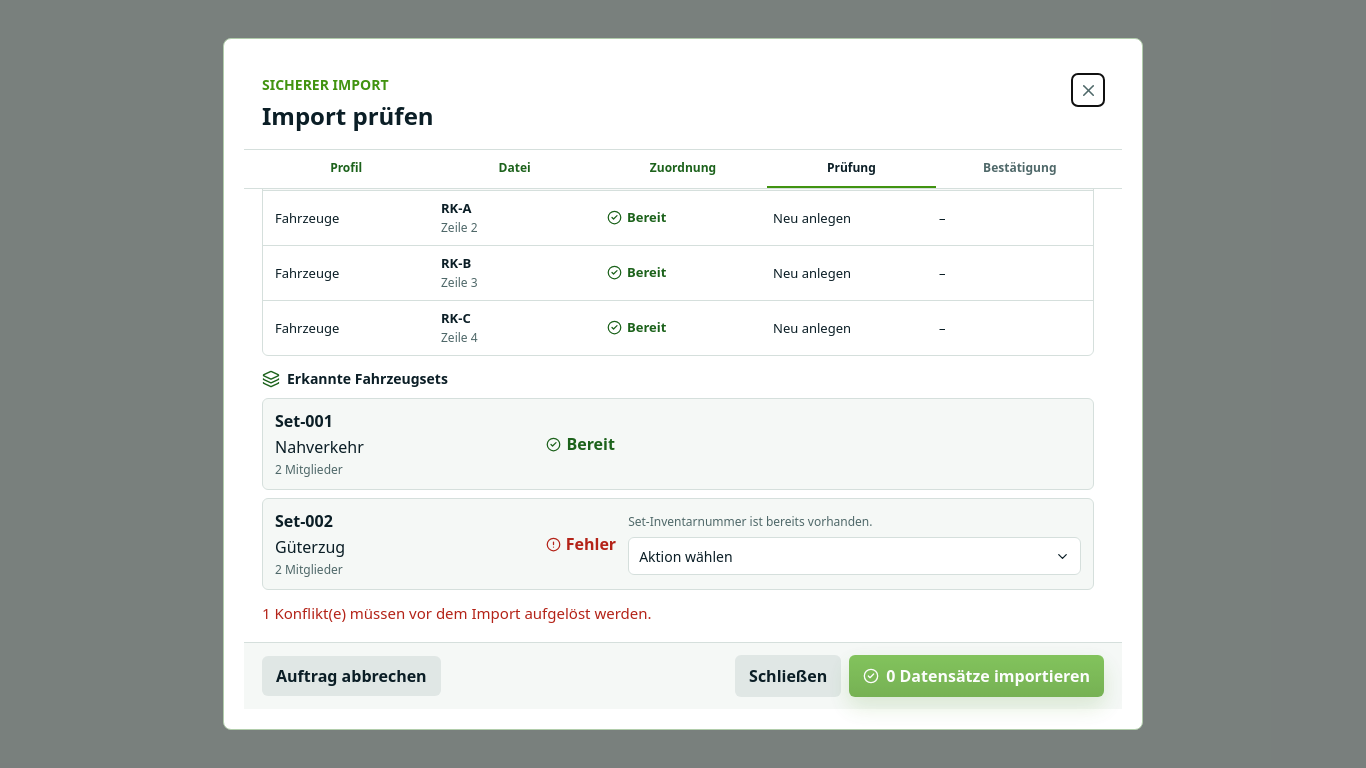
Test: data transfer operational dialogs › shows detected vehicle sets and resolves a set as one unit
(page scrolled)
Check: the element "Erkannte Fahrzeugsets" is shown, box x1=262 y1=368 x2=1094 y2=590
Check: the text "Set-001" is shown, box x1=275 y1=410 x2=333 y2=432
Step 1. Click the button with aria-label "Auflösung für Set Set-002" → point(686, 556), box x1=628 y1=538 x2=1081 y2=576
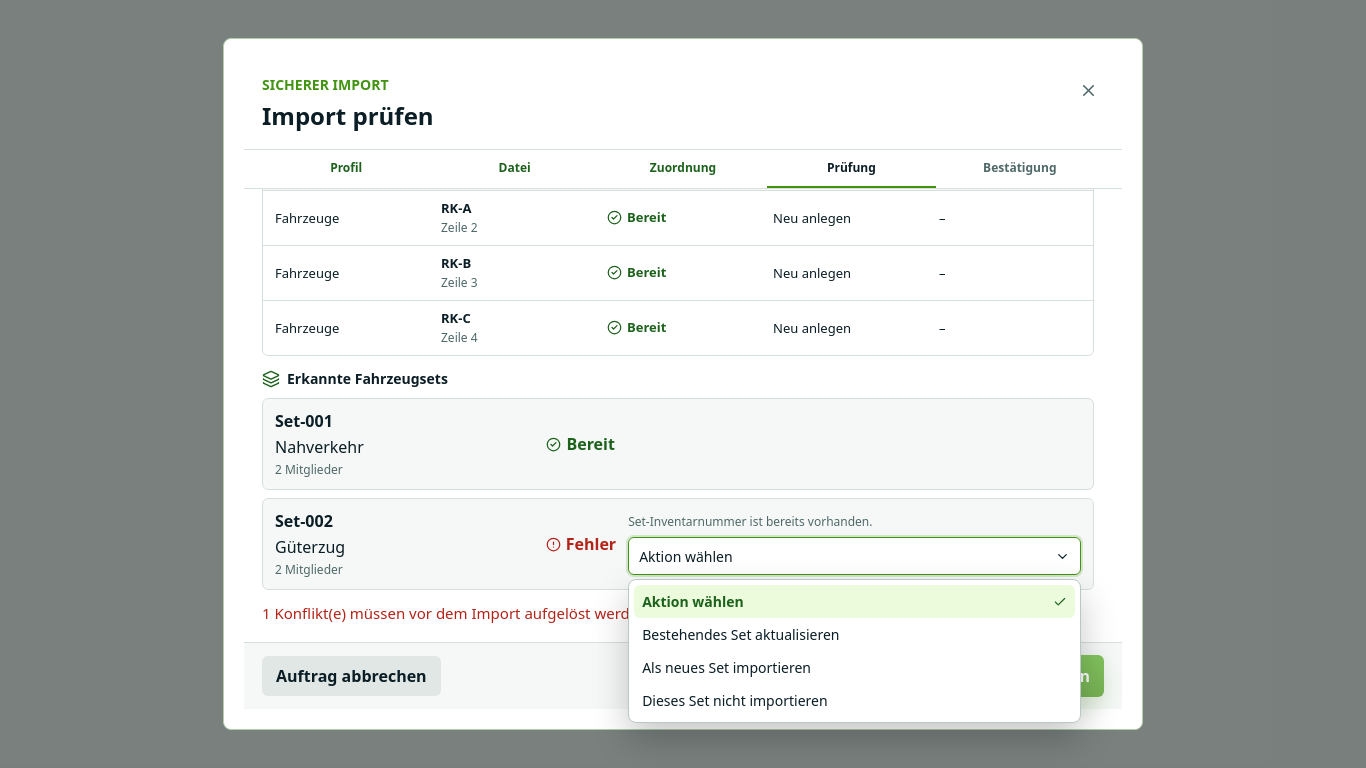
Check: the option "Bestehendes Set aktualisieren" is shown
Check: the option "Als neues Set importieren" is shown, box x1=634 y1=652 x2=1075 y2=684
Check: the option "Dieses Set nicht importieren" is shown, box x1=634 y1=684 x2=1075 y2=718
Step 2. Click the option "Bestehendes Set aktualisieren" → point(741, 635), box x1=634 y1=618 x2=1075 y2=652
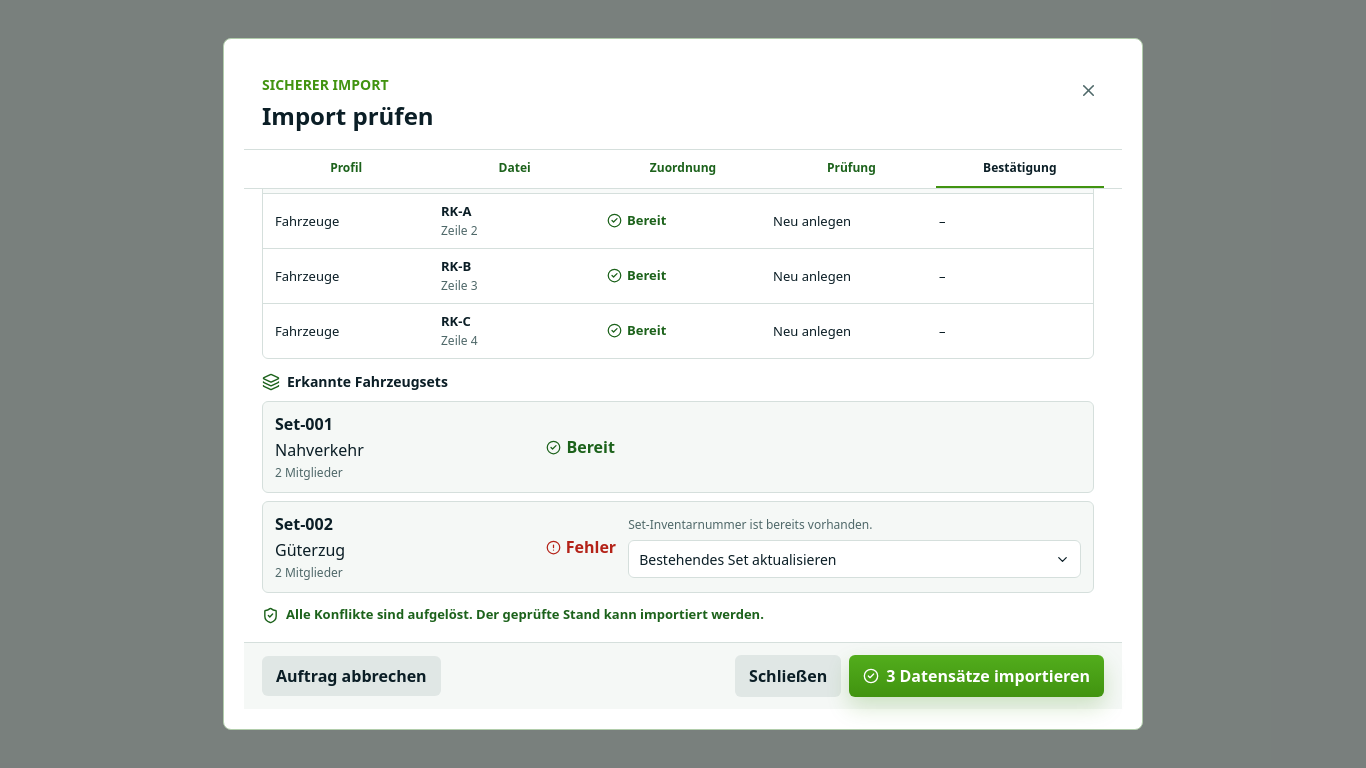
Check: the button "3 Datensätze importieren" is enabled, box x1=849 y1=655 x2=1104 y2=697
